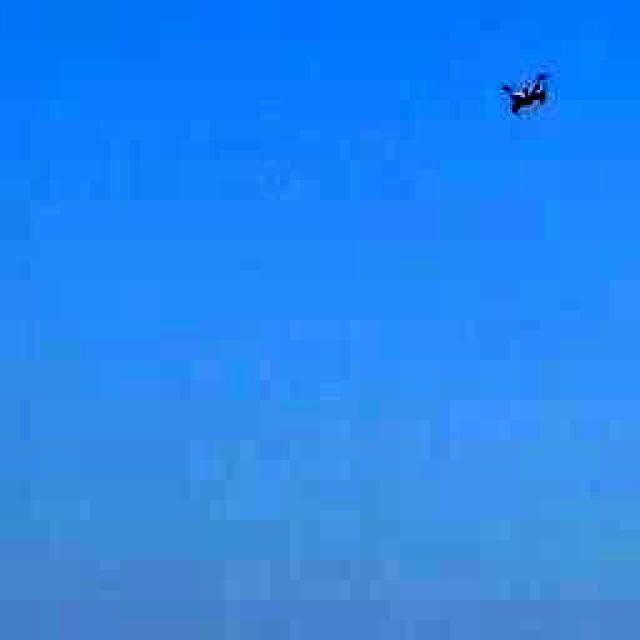bird: (468, 30, 575, 145)
